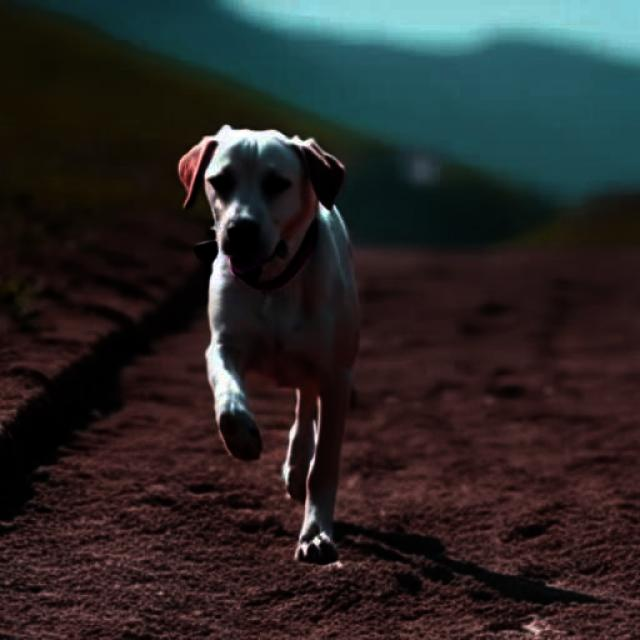Dog: (179, 125, 359, 563)
